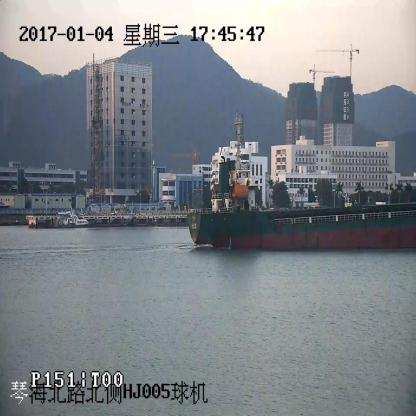Bulk Carrier: (187, 115, 415, 253)
